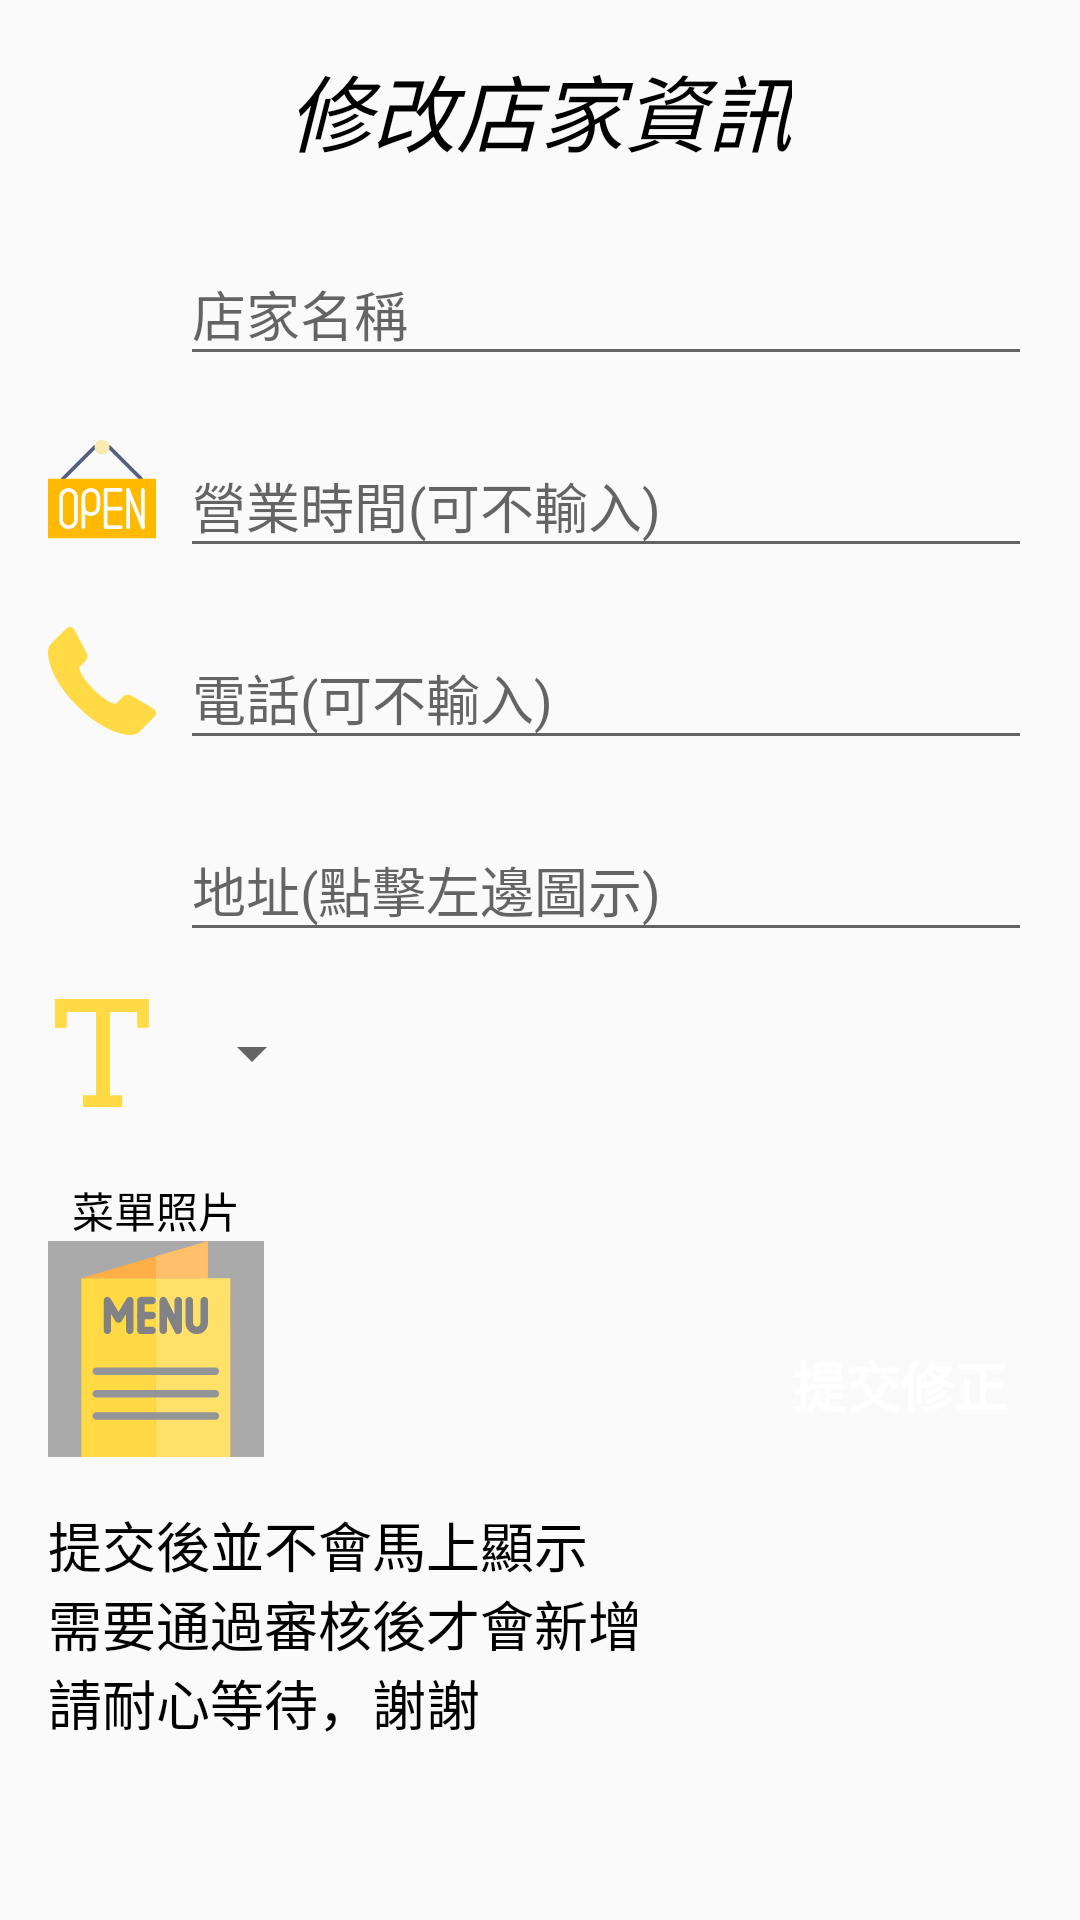

Icon click points for this 1080x1920 phone screenshot, format (x=x, y=y):
phone: (x=102, y=681)
